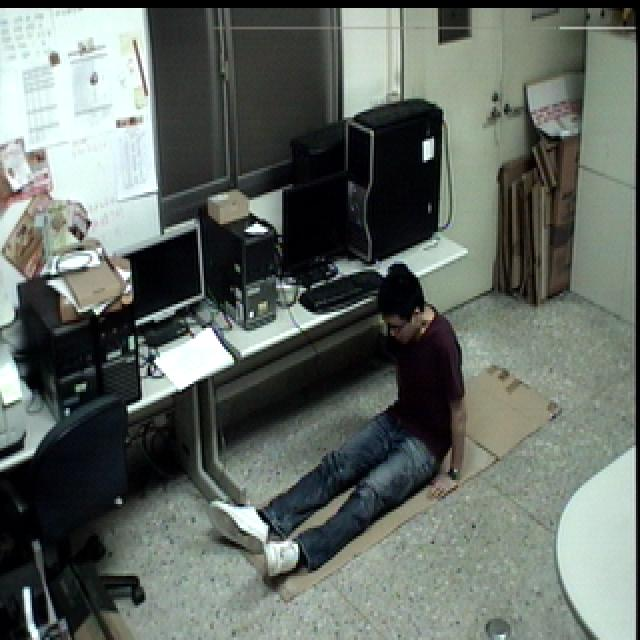sit: (201, 257, 474, 588)
